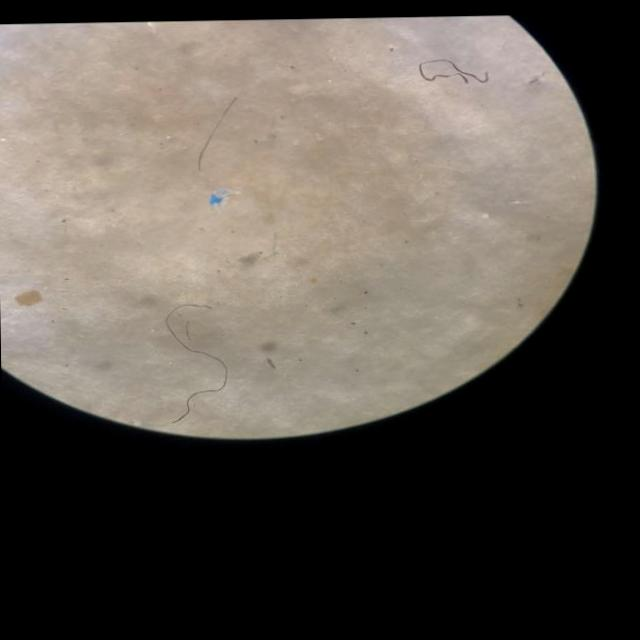fiber: (165, 304, 228, 422), (198, 96, 237, 171), (419, 59, 490, 84)
fragment: (16, 289, 42, 306)
pellet: (481, 213, 489, 218)
